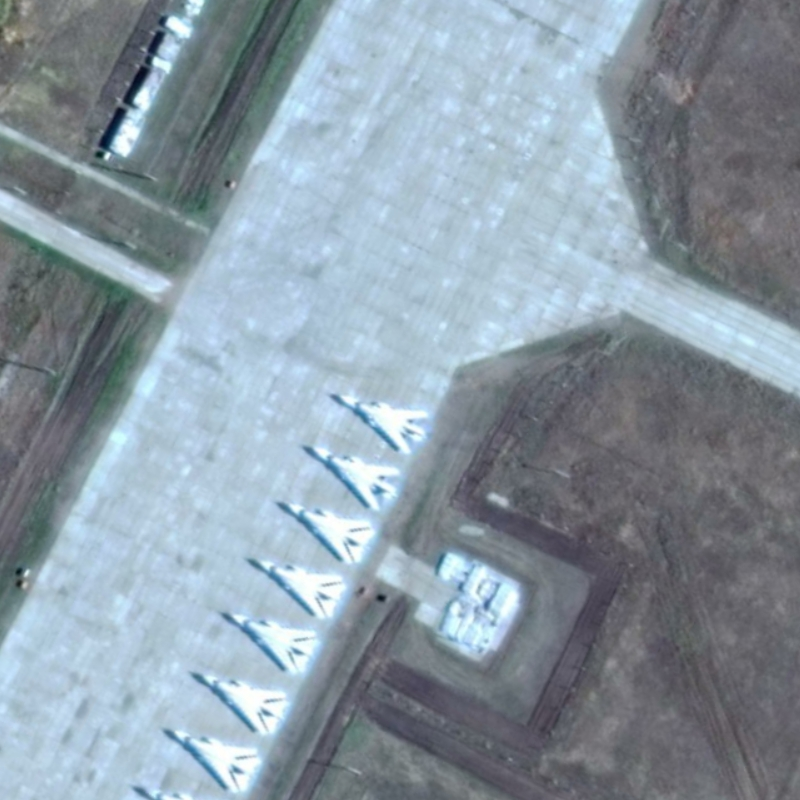A20: (213, 606, 325, 680), (272, 495, 381, 569), (160, 721, 267, 795), (300, 441, 405, 514), (185, 668, 294, 738), (243, 553, 351, 622), (328, 391, 435, 458)
